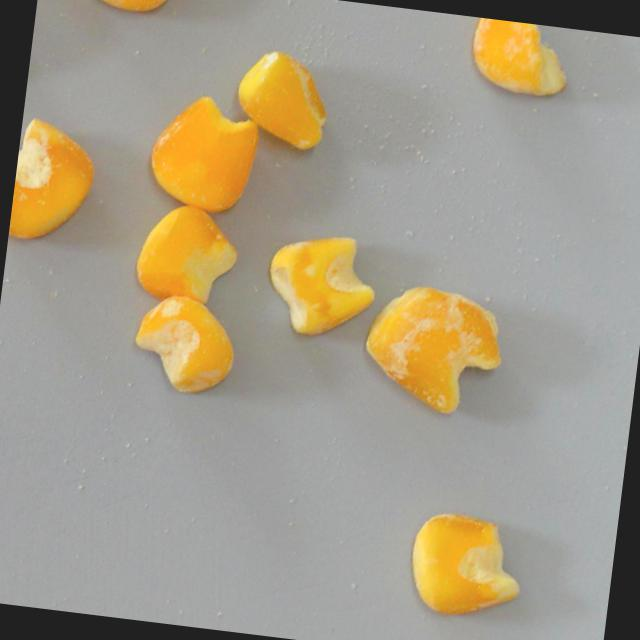dañado: (354, 272, 513, 425), (401, 501, 535, 629), (140, 85, 268, 219), (260, 223, 386, 347), (7, 108, 106, 254), (129, 195, 246, 315), (230, 42, 337, 157), (462, 16, 577, 106), (69, 0, 185, 22)
pelicula: (122, 283, 246, 405)
